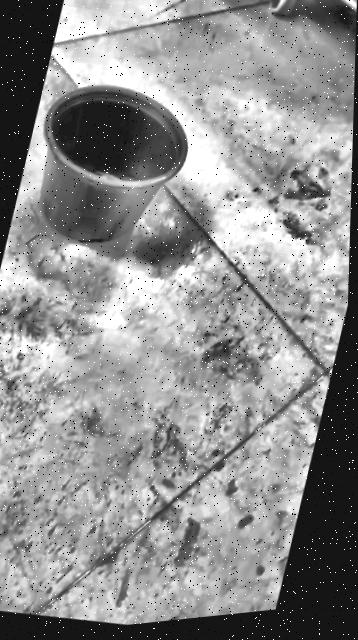pot: (39, 86, 186, 242)
